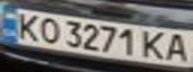1: (115, 26, 139, 56)
2: (78, 20, 103, 53)
3: (60, 18, 84, 48)
7: (96, 24, 121, 54)
A: (163, 31, 193, 64)
K: (139, 27, 172, 61), (9, 10, 45, 40)
O: (33, 15, 63, 45)
